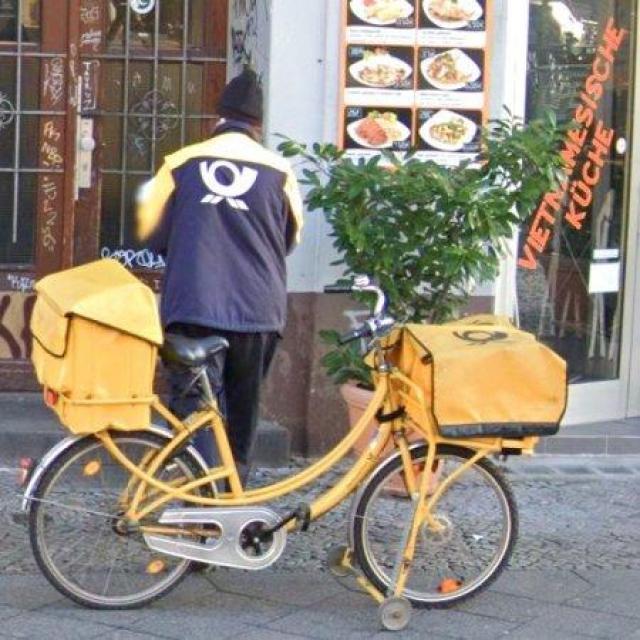bicycle: (24, 263, 570, 633)
